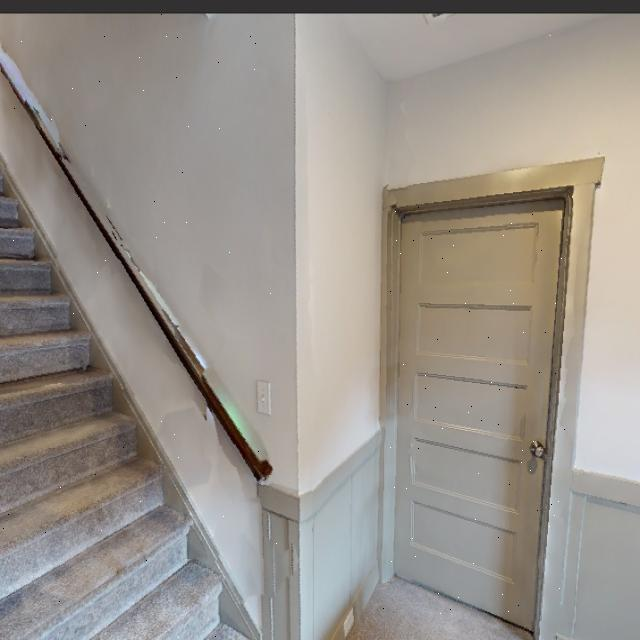door: (389, 198, 576, 621)
door-frame: (376, 150, 612, 640)
stairs: (0, 13, 295, 640)
